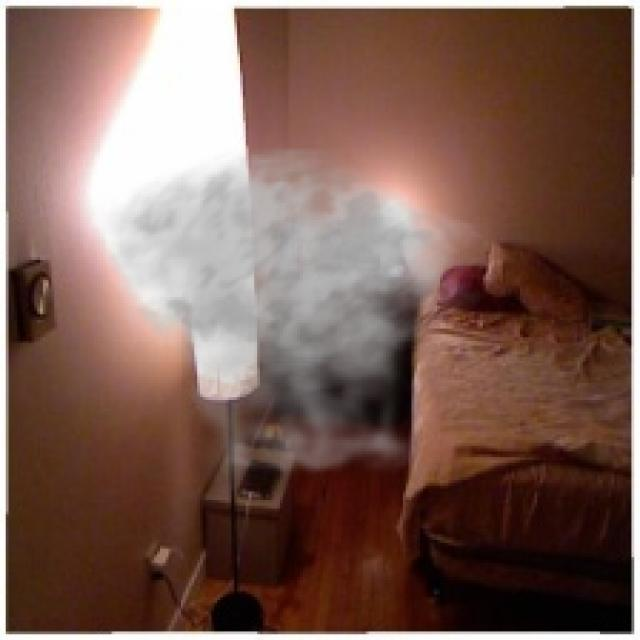Smoke: (94, 145, 489, 506)
